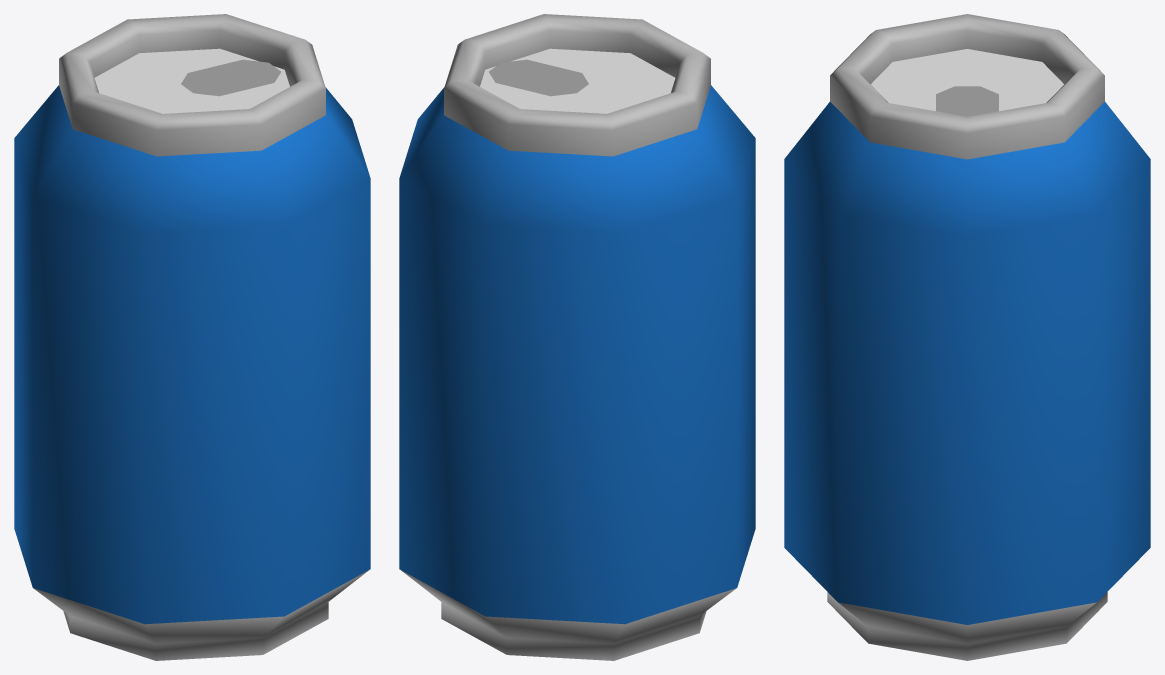
Rendered from prop_064.fbx.
3 renders of one model, left to right at view 1: azimuth 30°, elevation 25°; view 2: azimuth 150°, elevation 25°; view 3: azimuth 270°, elevation 25°, orthographic.
Parts seen in each view (by area): view 1: prop_064; view 2: prop_064; view 3: prop_064.
Boxes of the visible parts, left/top/right/bottom form: prop_064: left=14, top=14, right=370, bottom=660; prop_064: left=399, top=14, right=755, bottom=660; prop_064: left=784, top=14, right=1150, bottom=660.
Bounding box in the file's own units: 11.49 × 11.49 × 18.43.
